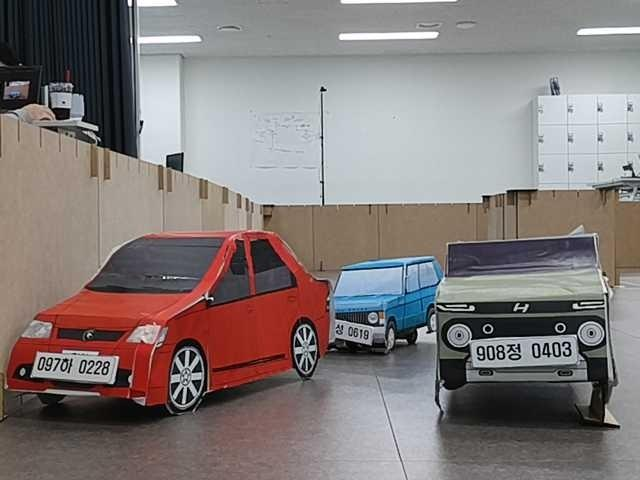car: (3, 234, 327, 412), (433, 235, 623, 431), (329, 257, 439, 350)
id: (33, 349, 118, 388), (469, 338, 576, 364), (325, 317, 374, 346)
